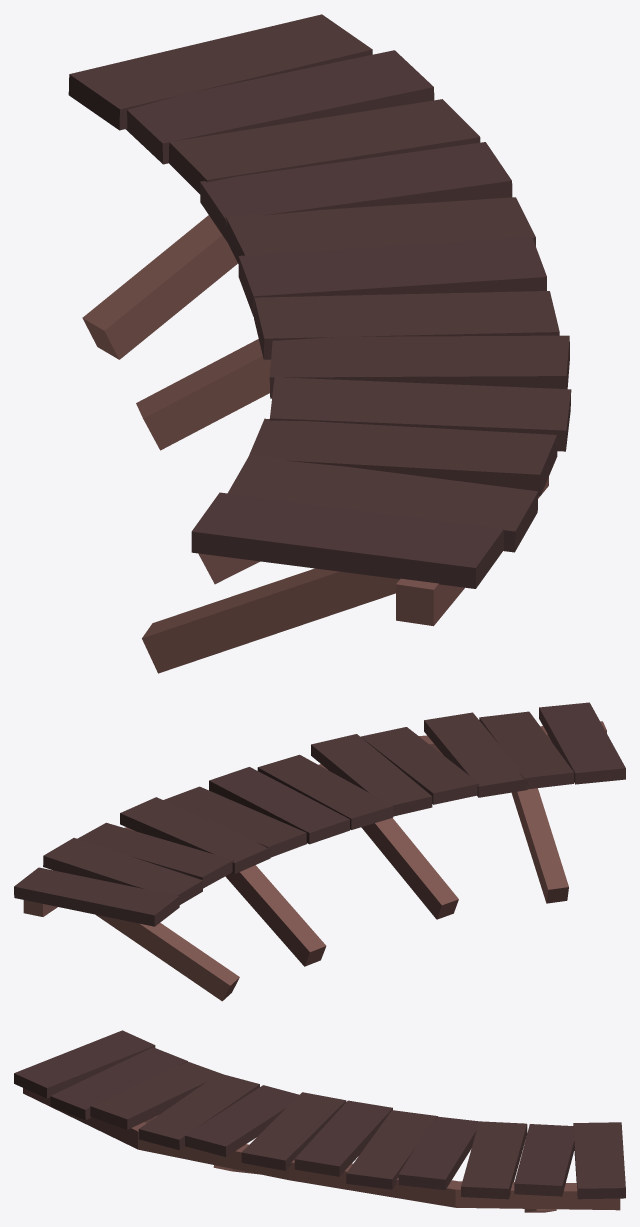
File: DarkRoseWoodBuildingMediumSlightCurvePlatform1.fbx
3 renders of one model, top to bottom at view 1: azimuth 30°, elevation 25°; view 2: azimuth 150°, elevation 25°; view 3: azimuth 270°, elevation 25°, orthographic. The views are drawn at different scales.
Parts seen in each view (by area): view 1: DarkRoseWoodBuildingMediumSlightCurvePlatform1; view 2: DarkRoseWoodBuildingMediumSlightCurvePlatform1; view 3: DarkRoseWoodBuildingMediumSlightCurvePlatform1.
Part boxes in pixels (x1,y1,x2,y2): DarkRoseWoodBuildingMediumSlightCurvePlatform1: [68, 14, 571, 673]; DarkRoseWoodBuildingMediumSlightCurvePlatform1: [14, 702, 625, 1001]; DarkRoseWoodBuildingMediumSlightCurvePlatform1: [14, 1030, 625, 1212].
Size of the model in its own units: 676 by 208 by 1114.
